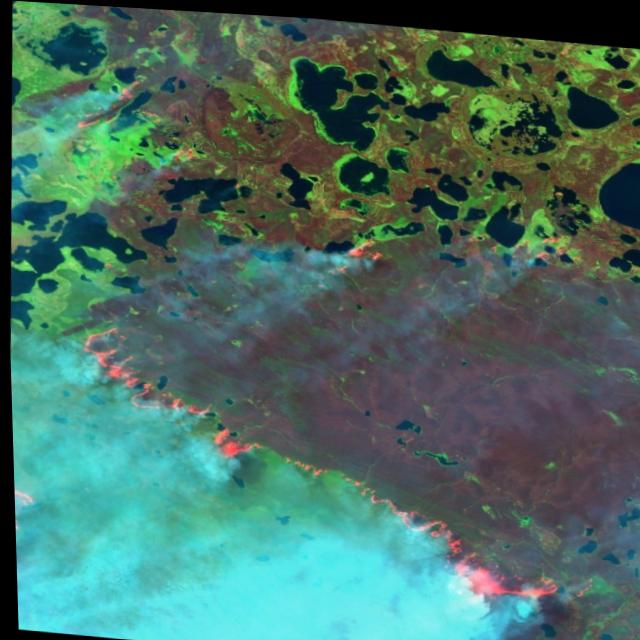fire: (1, 57, 625, 615)
